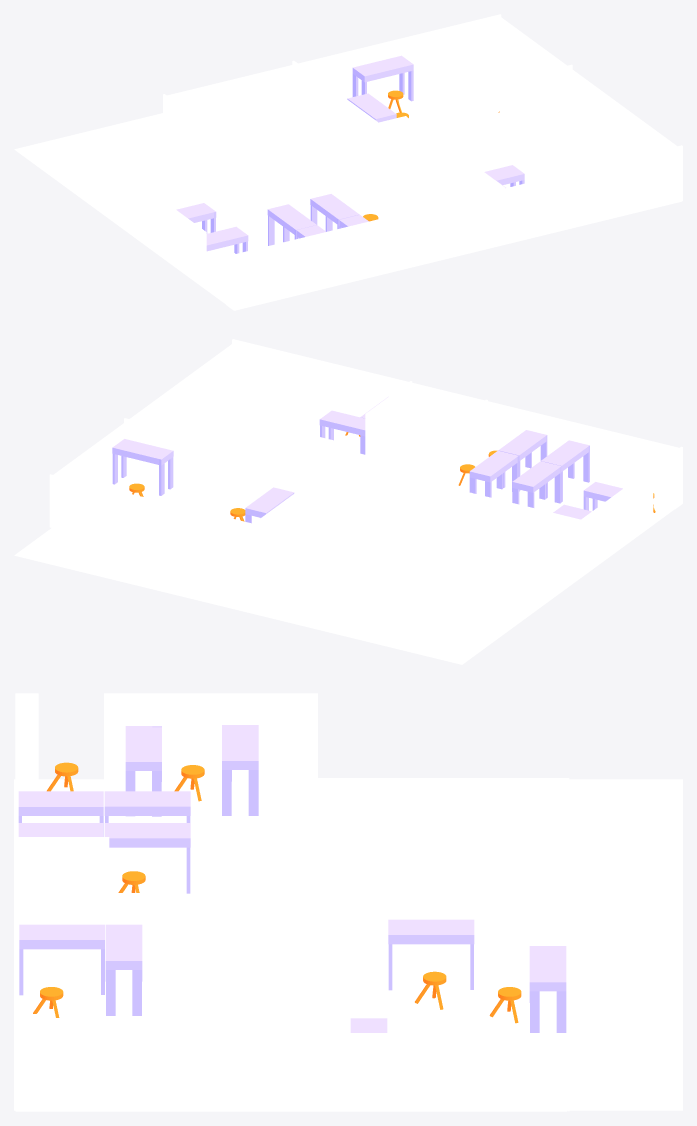
Rendered from demo.glb.
The picture shows the model from 3 angles, top to bottom: view 1: azimuth 30°, elevation 25°; view 2: azimuth 150°, elevation 25°; view 3: azimuth 270°, elevation 25°; orthographic projection. The views are drawn at different scales.
Parts seen in each view (by area): view 1: 地板, 底下最長的牆壁, 最右邊的牆, 右邊比較短的牆壁, 內-中間的牆, 後面最長的牆壁, 上右前牆壁-左, 前門-右, 上右前牆壁, 上面小房間上面的牆, 上面房間中間的牆, 小房間上面牆 (+12 smaller); view 2: 地板, 最右邊的牆, 底下最長的牆壁, 右邊比較短的牆壁, 內-中間的牆, 後面最長的牆壁, 上右前牆壁, 前門-右, 上右前牆壁-左, 小房間上面牆, 上面小房間上面的牆, 內-左 (+12 smaller); view 3: 地板, 後面最長的牆壁, 上右前牆壁, 上右前牆壁-左, 前門-右, 內-右, 上面小房間左邊的牆, 內-左, 內-右.001, 桌5, 桌4, 桌2-1 (+10 smaller).
Boxes of the visible parts, bbox=[...] form: 地板: bbox=[14, 68, 681, 310]; 底下最長的牆壁: bbox=[233, 145, 682, 310]; 最右邊的牆: bbox=[167, 14, 501, 135]; 右邊比較短的牆壁: bbox=[138, 135, 331, 223]; 內-中間的牆: bbox=[433, 103, 610, 175]; 後面最長的牆壁: bbox=[499, 17, 682, 201]; 上右前牆壁-左: bbox=[292, 60, 378, 170]; 前門-右: bbox=[134, 180, 206, 288]; 上右前牆壁: bbox=[163, 94, 248, 169]; 上面小房間上面的牆: bbox=[502, 64, 572, 122]; 上面房間中間的牆: bbox=[364, 116, 406, 182]; 小房間上面牆: bbox=[414, 166, 473, 206]; 地板: bbox=[14, 395, 674, 664]; 最右邊的牆: bbox=[49, 474, 386, 609]; 底下最長的牆壁: bbox=[232, 339, 678, 502]; 右邊比較短的牆壁: bbox=[387, 472, 580, 575]; 內-中間的牆: bbox=[163, 399, 342, 474]; 後面最長的牆壁: bbox=[53, 344, 233, 487]; 上右前牆壁: bbox=[386, 492, 472, 609]; 前門-右: bbox=[581, 468, 653, 576]; 上右前牆壁-左: bbox=[257, 458, 343, 538]; 小房間上面牆: bbox=[381, 404, 441, 474]; 上面小房間上面的牆: bbox=[124, 418, 196, 491]; 內-左: bbox=[455, 399, 487, 478]; 地板: bbox=[14, 779, 682, 1110]; 後面最長的牆壁: bbox=[16, 1033, 566, 1111]; 上右前牆壁: bbox=[313, 778, 569, 862]; 上右前牆壁-左: bbox=[312, 870, 568, 958]; 前門-右: bbox=[104, 693, 317, 780]; 內-右: bbox=[16, 893, 152, 979]; 上面小房間左邊的牆: bbox=[265, 971, 348, 1032]; 內-左: bbox=[16, 837, 109, 892]; 內-右.001: bbox=[263, 892, 311, 978]; 桌5: bbox=[388, 919, 474, 944]; 桌4: bbox=[19, 924, 104, 949]; 桌2-1: bbox=[104, 791, 190, 815].
Bounding box in the file's own units: 16.31 × 2.11 × 13.85.
